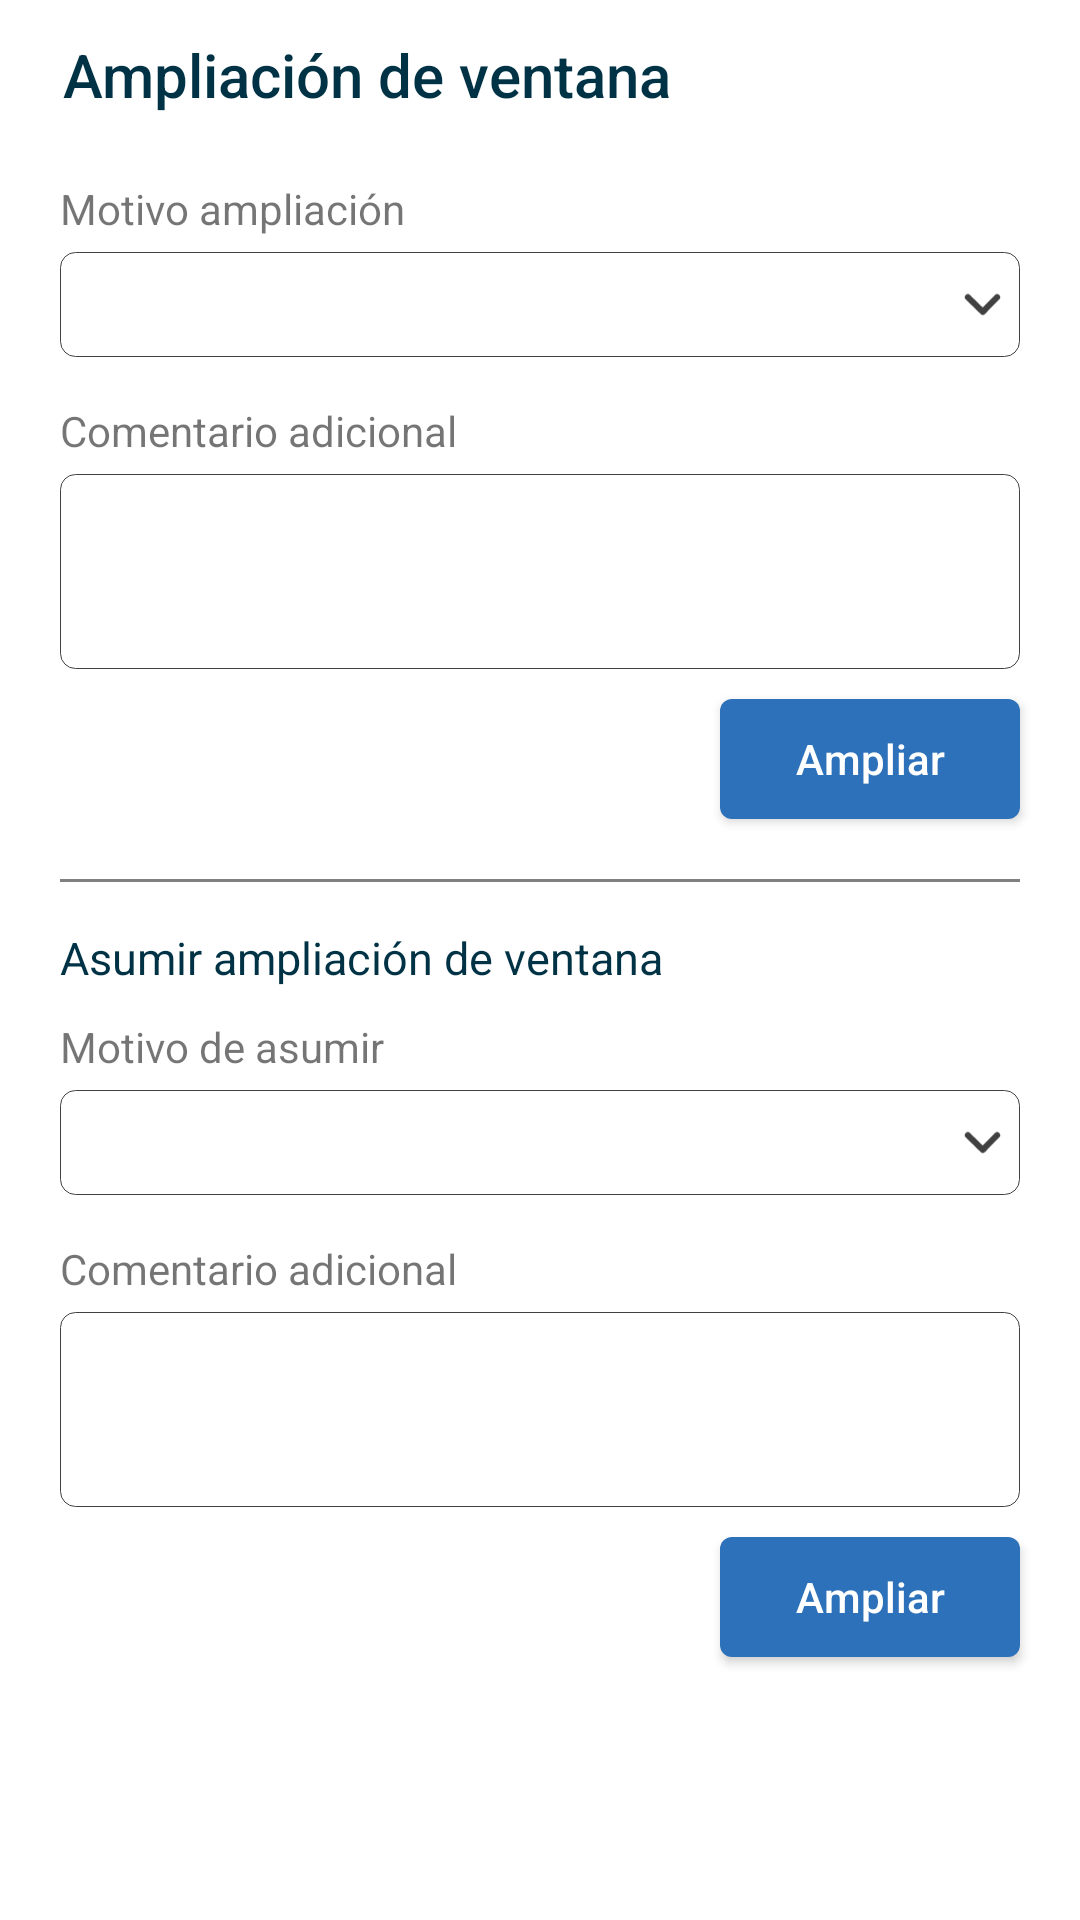

Where to tap for icons on this 1080×1920 app screen, as (x=x, y=y):
arrow down: (x=982, y=304), (x=982, y=1142)
